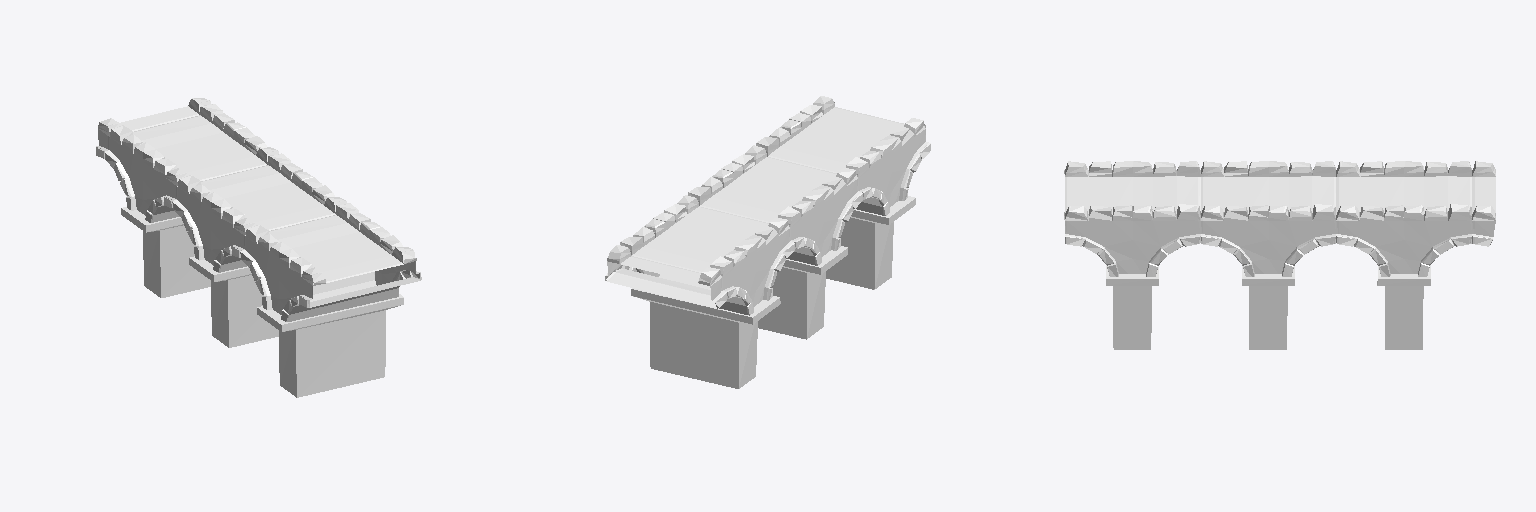
The model's file is puente.obj.
3 renders of one model, left to right at view 1: azimuth 30°, elevation 25°; view 2: azimuth 150°, elevation 25°; view 3: azimuth 270°, elevation 25°, orthographic.
Parts seen in each view (by area): view 1: Most_texture_2:Mesh; view 2: Most_texture_2:Mesh; view 3: Most_texture_2:Mesh.
Boxes of the visible parts, x1,y1,x2,y2 form: Most_texture_2:Mesh: [96, 98, 421, 397]; Most_texture_2:Mesh: [605, 96, 930, 388]; Most_texture_2:Mesh: [1064, 161, 1495, 349].
Size of the model in its own units: 5.48 by 6.1 by 16.72.